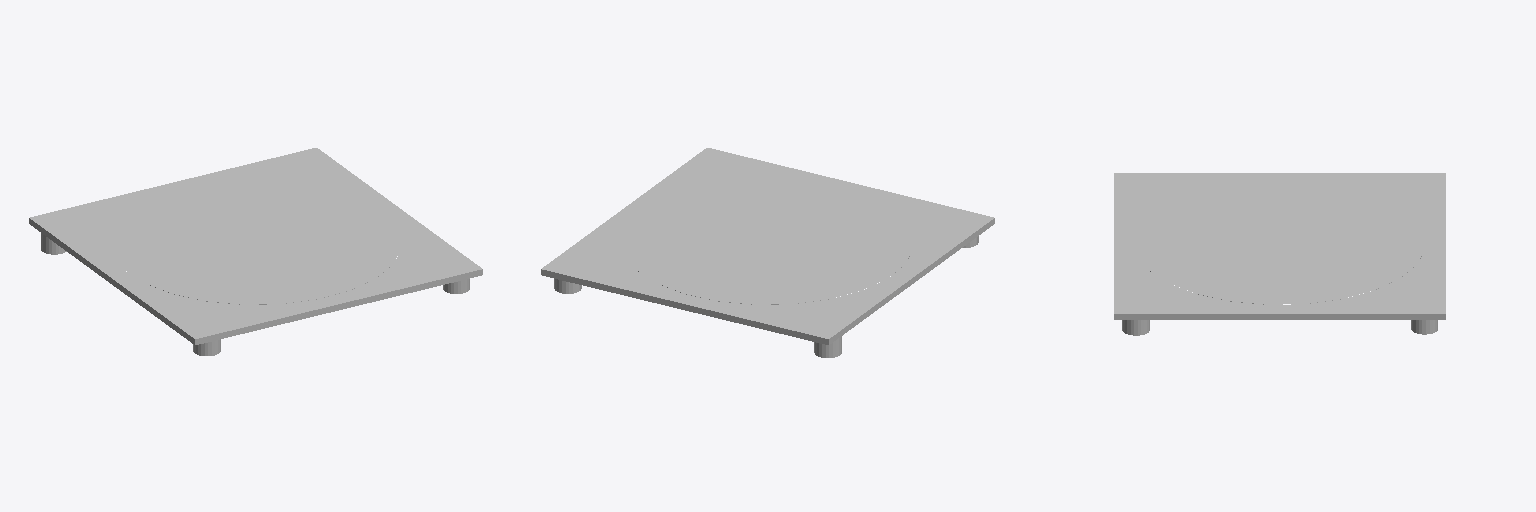
File: helipad.obj
3 views of the same model, side by side, from view 1: azimuth 30°, elevation 25°; view 2: azimuth 150°, elevation 25°; view 3: azimuth 270°, elevation 25° (orthographic).
Parts seen in each view (by area): view 1: obj63, obj1, obj62, obj3, obj2; view 2: obj63, obj1, obj62, obj5, obj2; view 3: obj63, obj1, obj62, obj4.
Part boxes in pixels (x1,y1,x2,y2): obj63: (110,182,401,304); obj1: (30,148,481,338); obj62: (163,196,345,286); obj3: (195,269,482,344); obj2: (29,218,194,344); obj63: (622,182,913,304); obj1: (542,148,993,338); obj62: (675,199,856,289); obj5: (541,269,828,344); obj2: (829,218,994,344); obj63: (1134,182,1425,304); obj1: (1114,173,1445,313); obj62: (1189,222,1377,264); obj4: (1114,314,1445,319).
Size of the model in its own units: 10.13 by 0.8574 by 10.13.